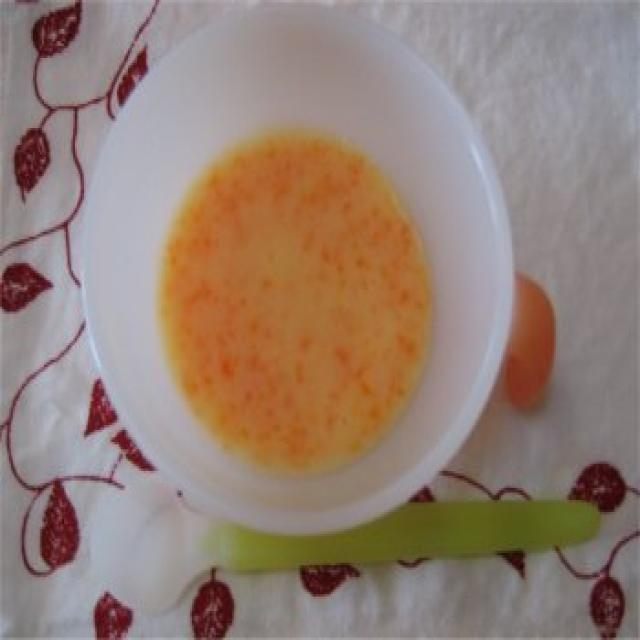汤锅炖物: (78, 0, 512, 543)
